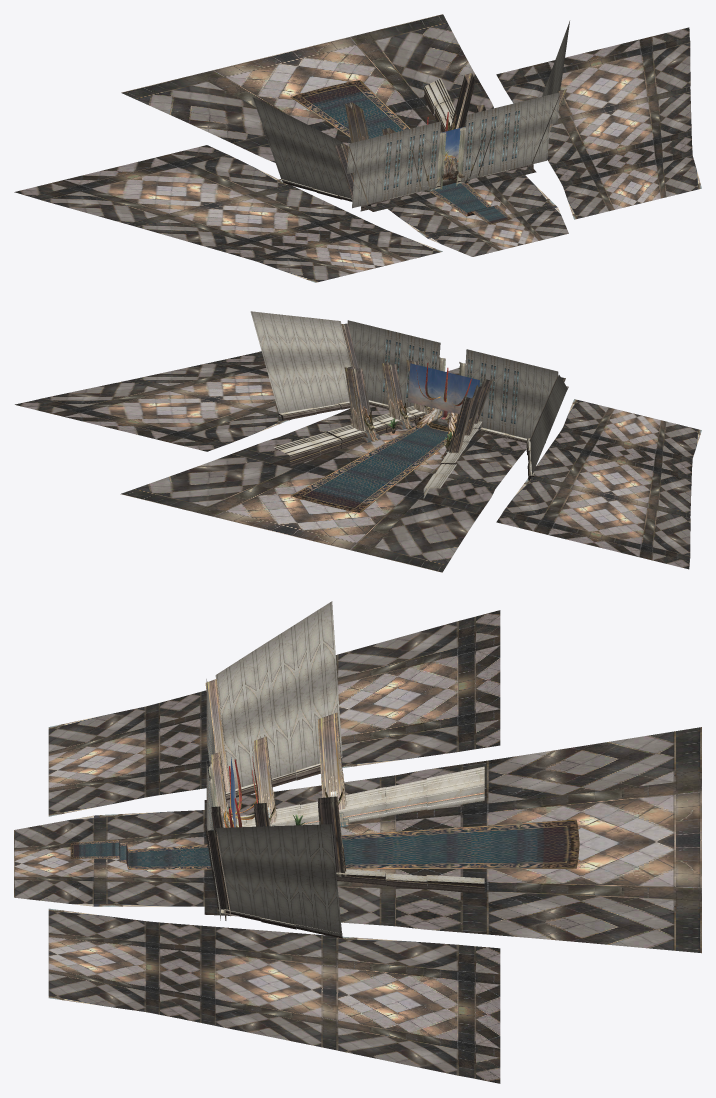
File: stageProb.fbx
The picture shows the model from 3 angles, top to bottom: view 1: azimuth 30°, elevation 25°; view 2: azimuth 150°, elevation 25°; view 3: azimuth 270°, elevation 25°; orthographic projection. The views are drawn at different scales.
Visible parts, largest first — view 1: Successor_floor, Successor_obj; view 2: Successor_floor, Successor_obj, Successor_sky; view 3: Successor_floor, Successor_obj.
Part boxes in pixels (left/top/right/bottom): Successor_floor: left=14, top=14, right=701, bottom=282; Successor_obj: left=252, top=21, right=569, bottom=211; Successor_floor: left=15, top=351, right=701, bottom=572; Successor_obj: left=250, top=311, right=567, bottom=498; Successor_sky: left=408, top=363, right=479, bottom=418; Successor_floor: left=14, top=610, right=701, bottom=1083; Successor_obj: left=205, top=601, right=484, bottom=938.
Size of the model in its own units: 66.34 by 9.94 by 40.7.
Materials: 3 (3 with a texture image).
